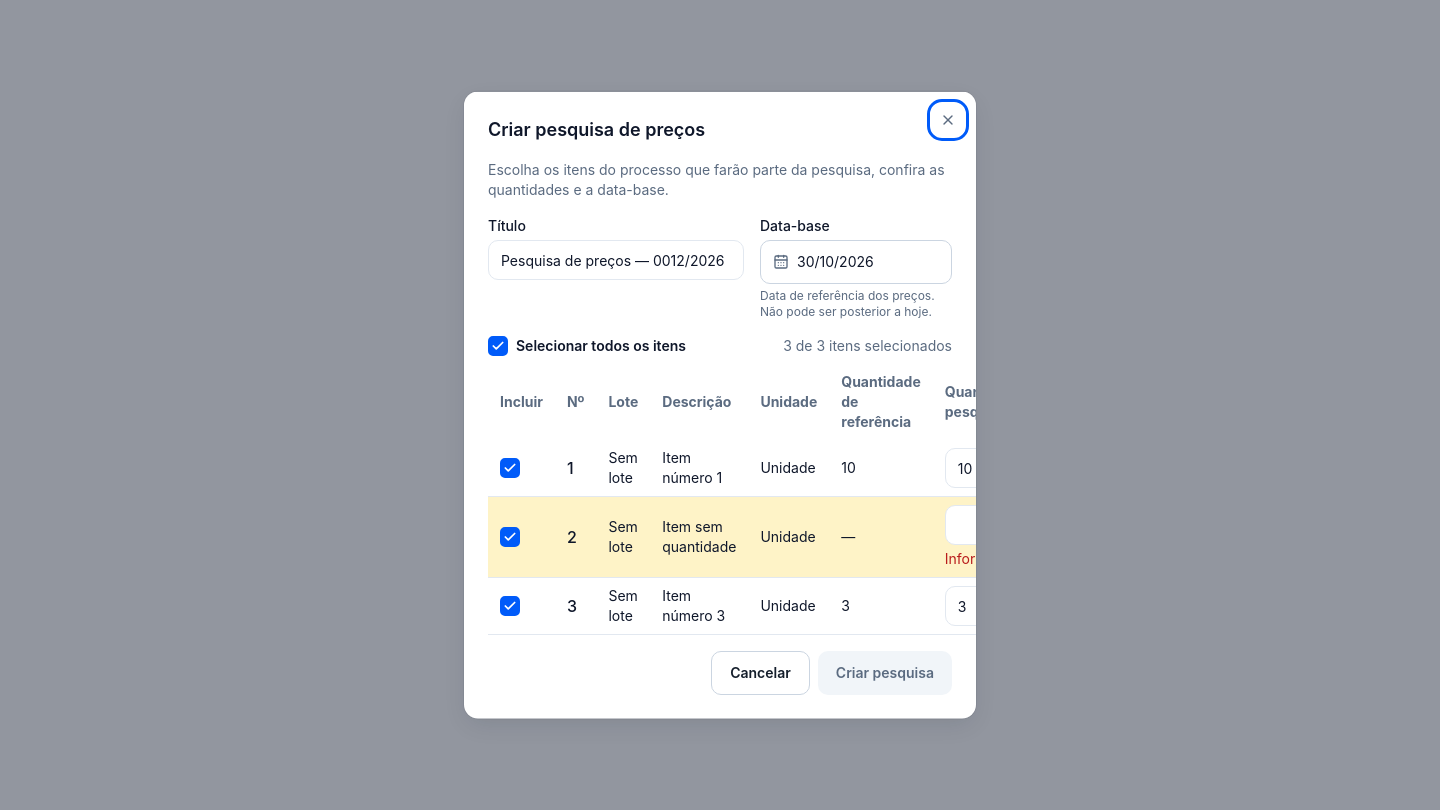
Scenario: CreatePriceResearchDialog (US-024 · fluxo principal 2–7) › V-05: dias depois de hoje ficam desabilitados no calendário da data-base
What coordinates should you click on to do the following:
click the button named "Data-base"
I would click on:
 (856, 262)
Its box is x1=760 y1=240 x2=952 y2=284.
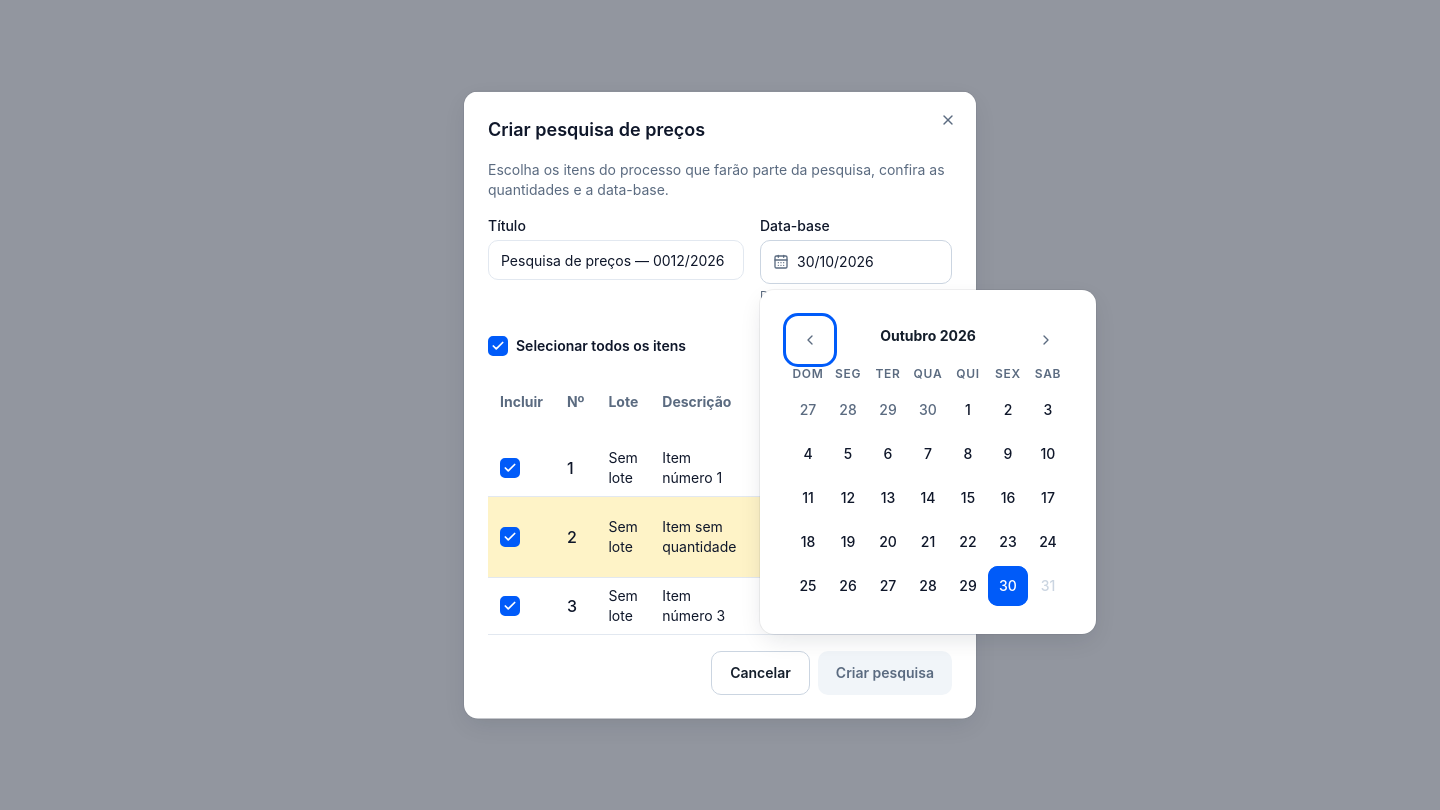
Check: the 2nd button "30" is enabled, box x1=988 y1=566 x2=1028 y2=606
